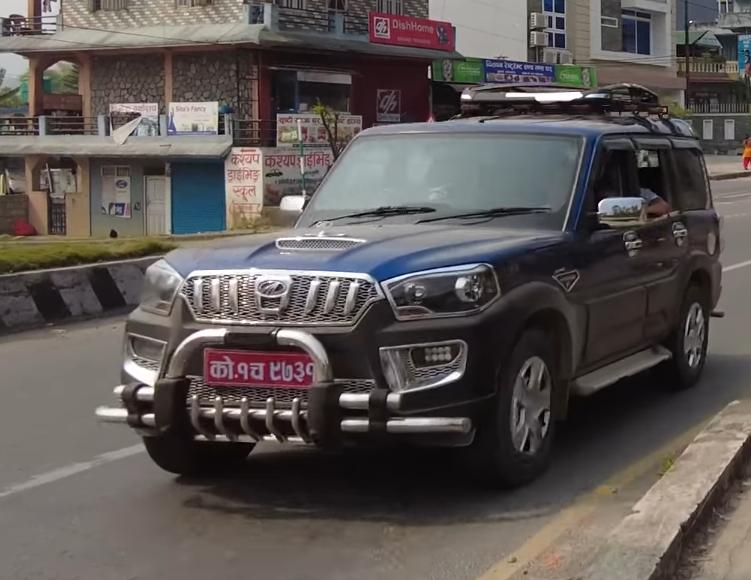SUV: (87, 107, 727, 496)
